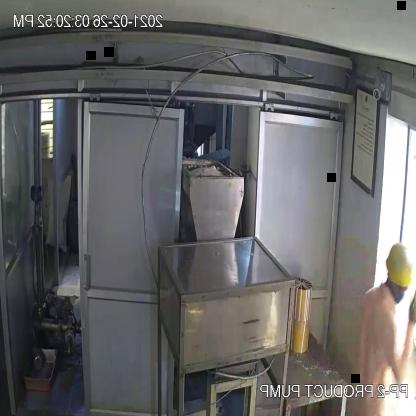helmet: (380, 237, 416, 306)
